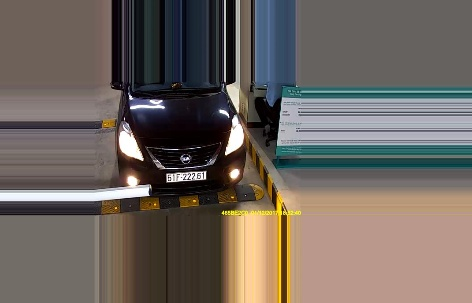plate: (163, 168, 208, 183)
